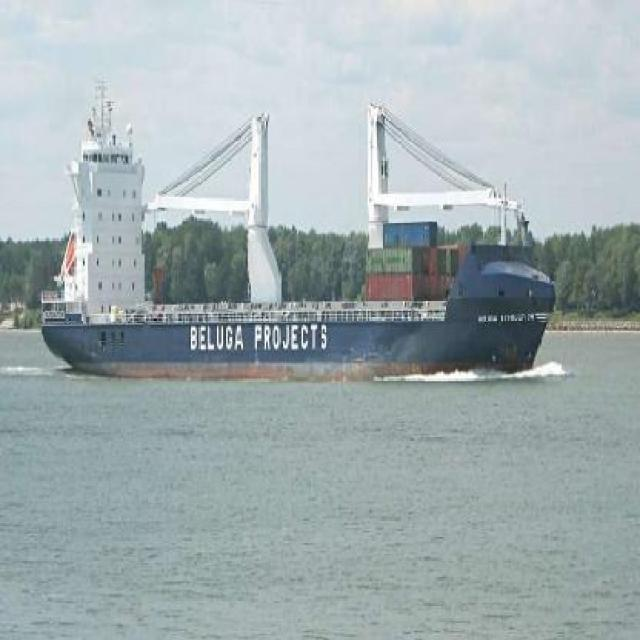ship: (1, 70, 573, 381)
